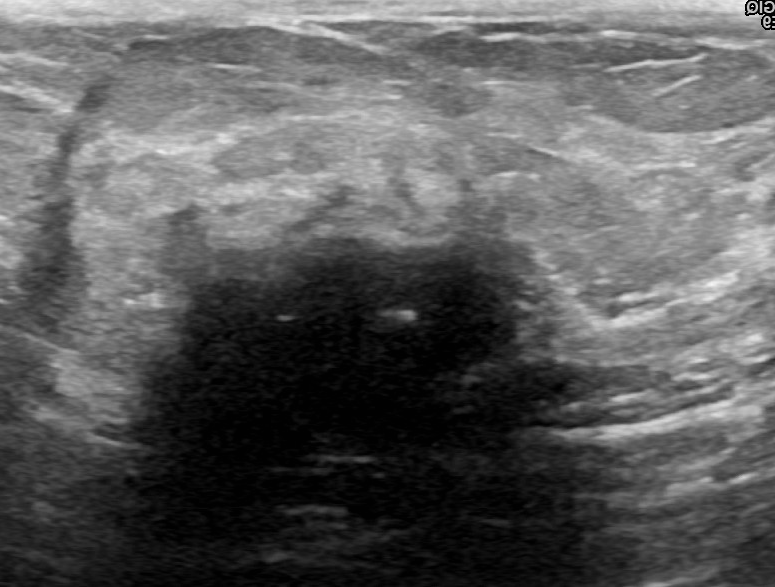Malignant: (195, 229, 497, 512)
